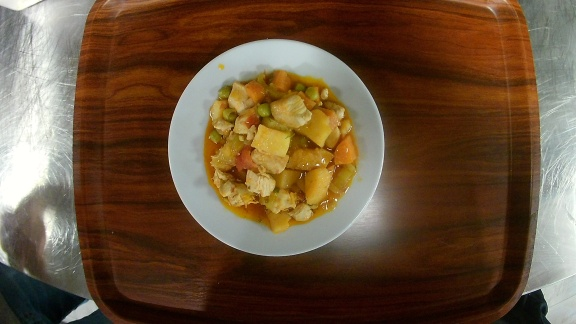bezelyelitavuk: (166, 37, 387, 260)
